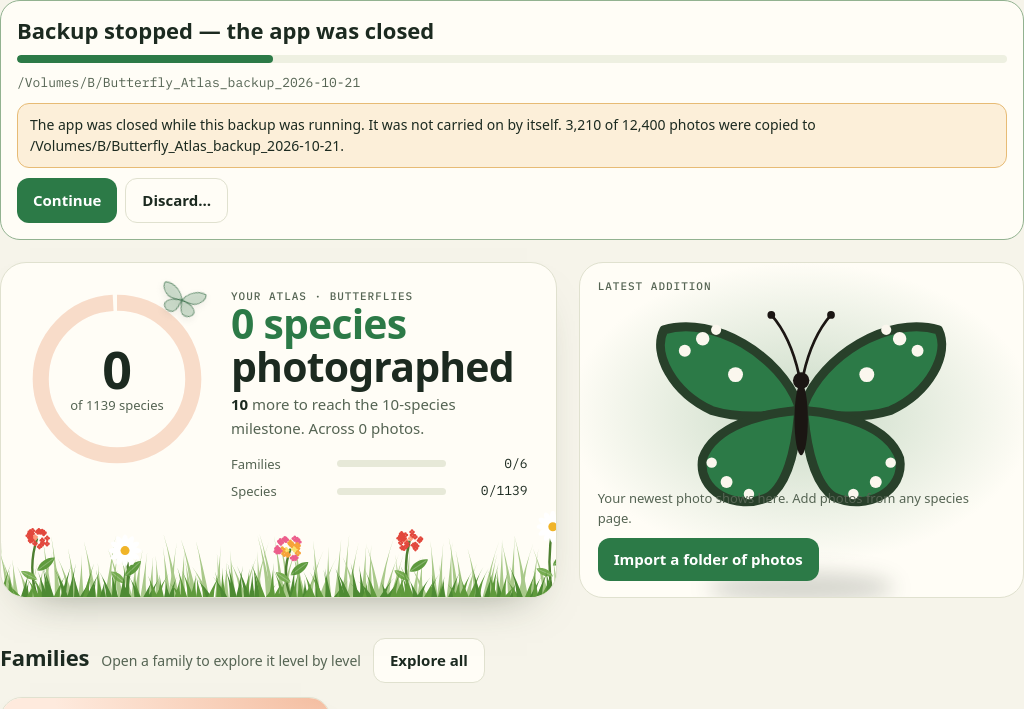
Test case: a backup the app's closing stopped shows its card on Home with Continue and Discard…, and nothing restarts by itself
Expected: the button "Continue" is shown, [17,178,117,223]
Click the button "Discard…".
click(177, 201)  # box [125,178,228,223]
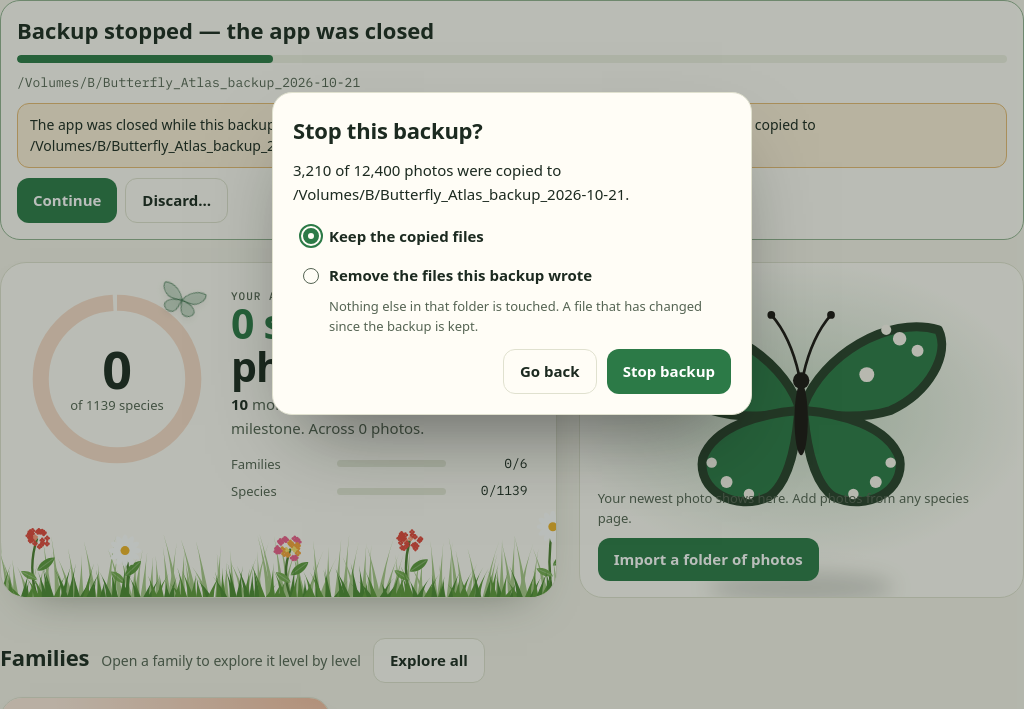
Result: the dialog "Stop this backup?" is shown at [272,92,752,415]
